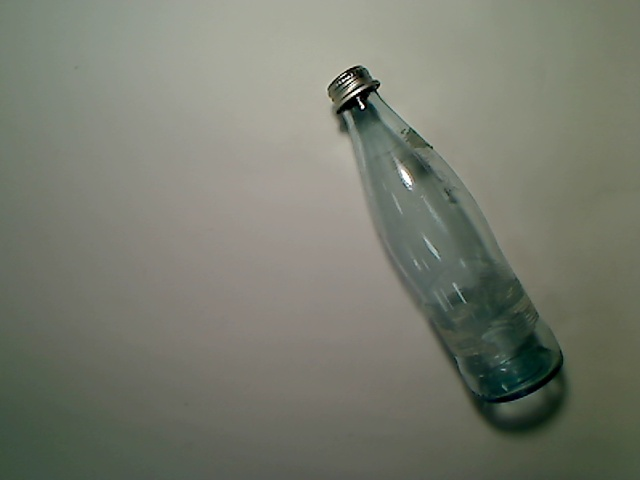bottle: (325, 64, 567, 406)
